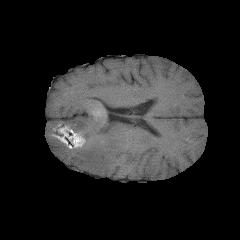glioma: (49, 93, 131, 173)
